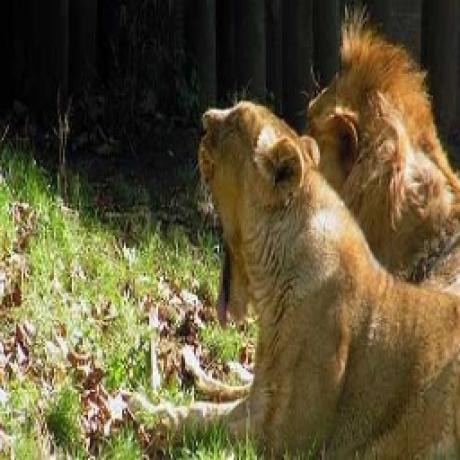Lion: (195, 91, 460, 460), (305, 18, 460, 295)
